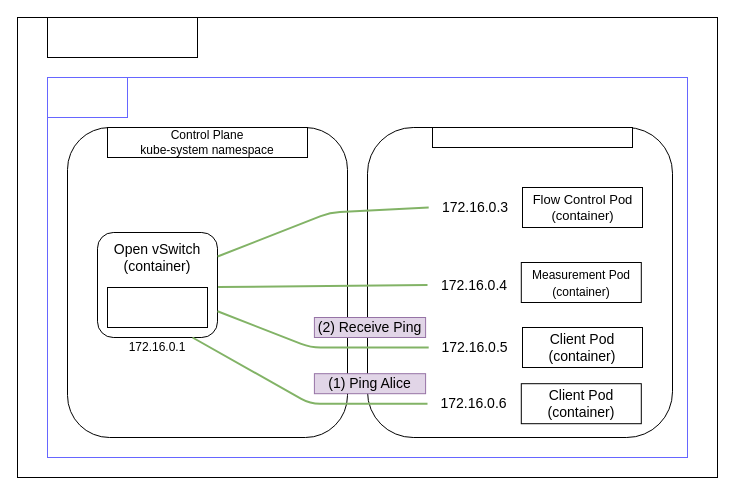
The diagram is 735 pixels wide and 495 high, and some of its shapes have lost their labels. Here are the shapes that lost their labels. From the top down, the centre of each, then its label:
At (x=122, y=37): "Minikube Cluster (host)".
At (x=87, y=97): "Node (container)".
At (x=532, y=137): "default namespace".
At (x=157, y=307): "OVS controller".
